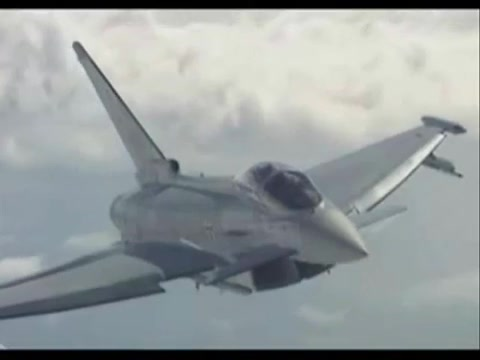aeroplane: (1, 41, 469, 321)
